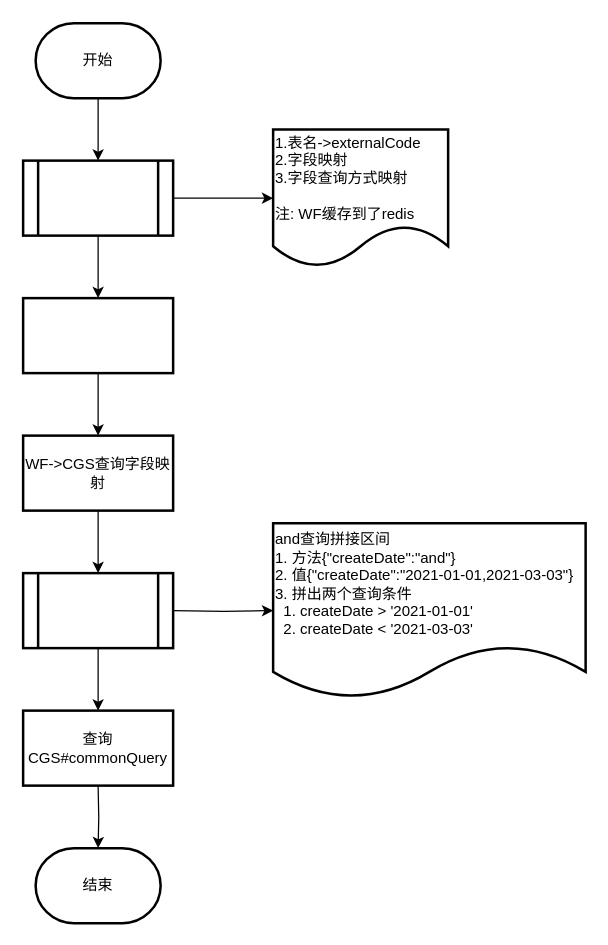
This 608x945 diagram has some shape labels left out. The centre of each missing label's shape, as x and y in pixels:
WF查询方法映射: point 97,610
查询 CGS#metadata: point 97,197
确定externalCode: point 97,335
